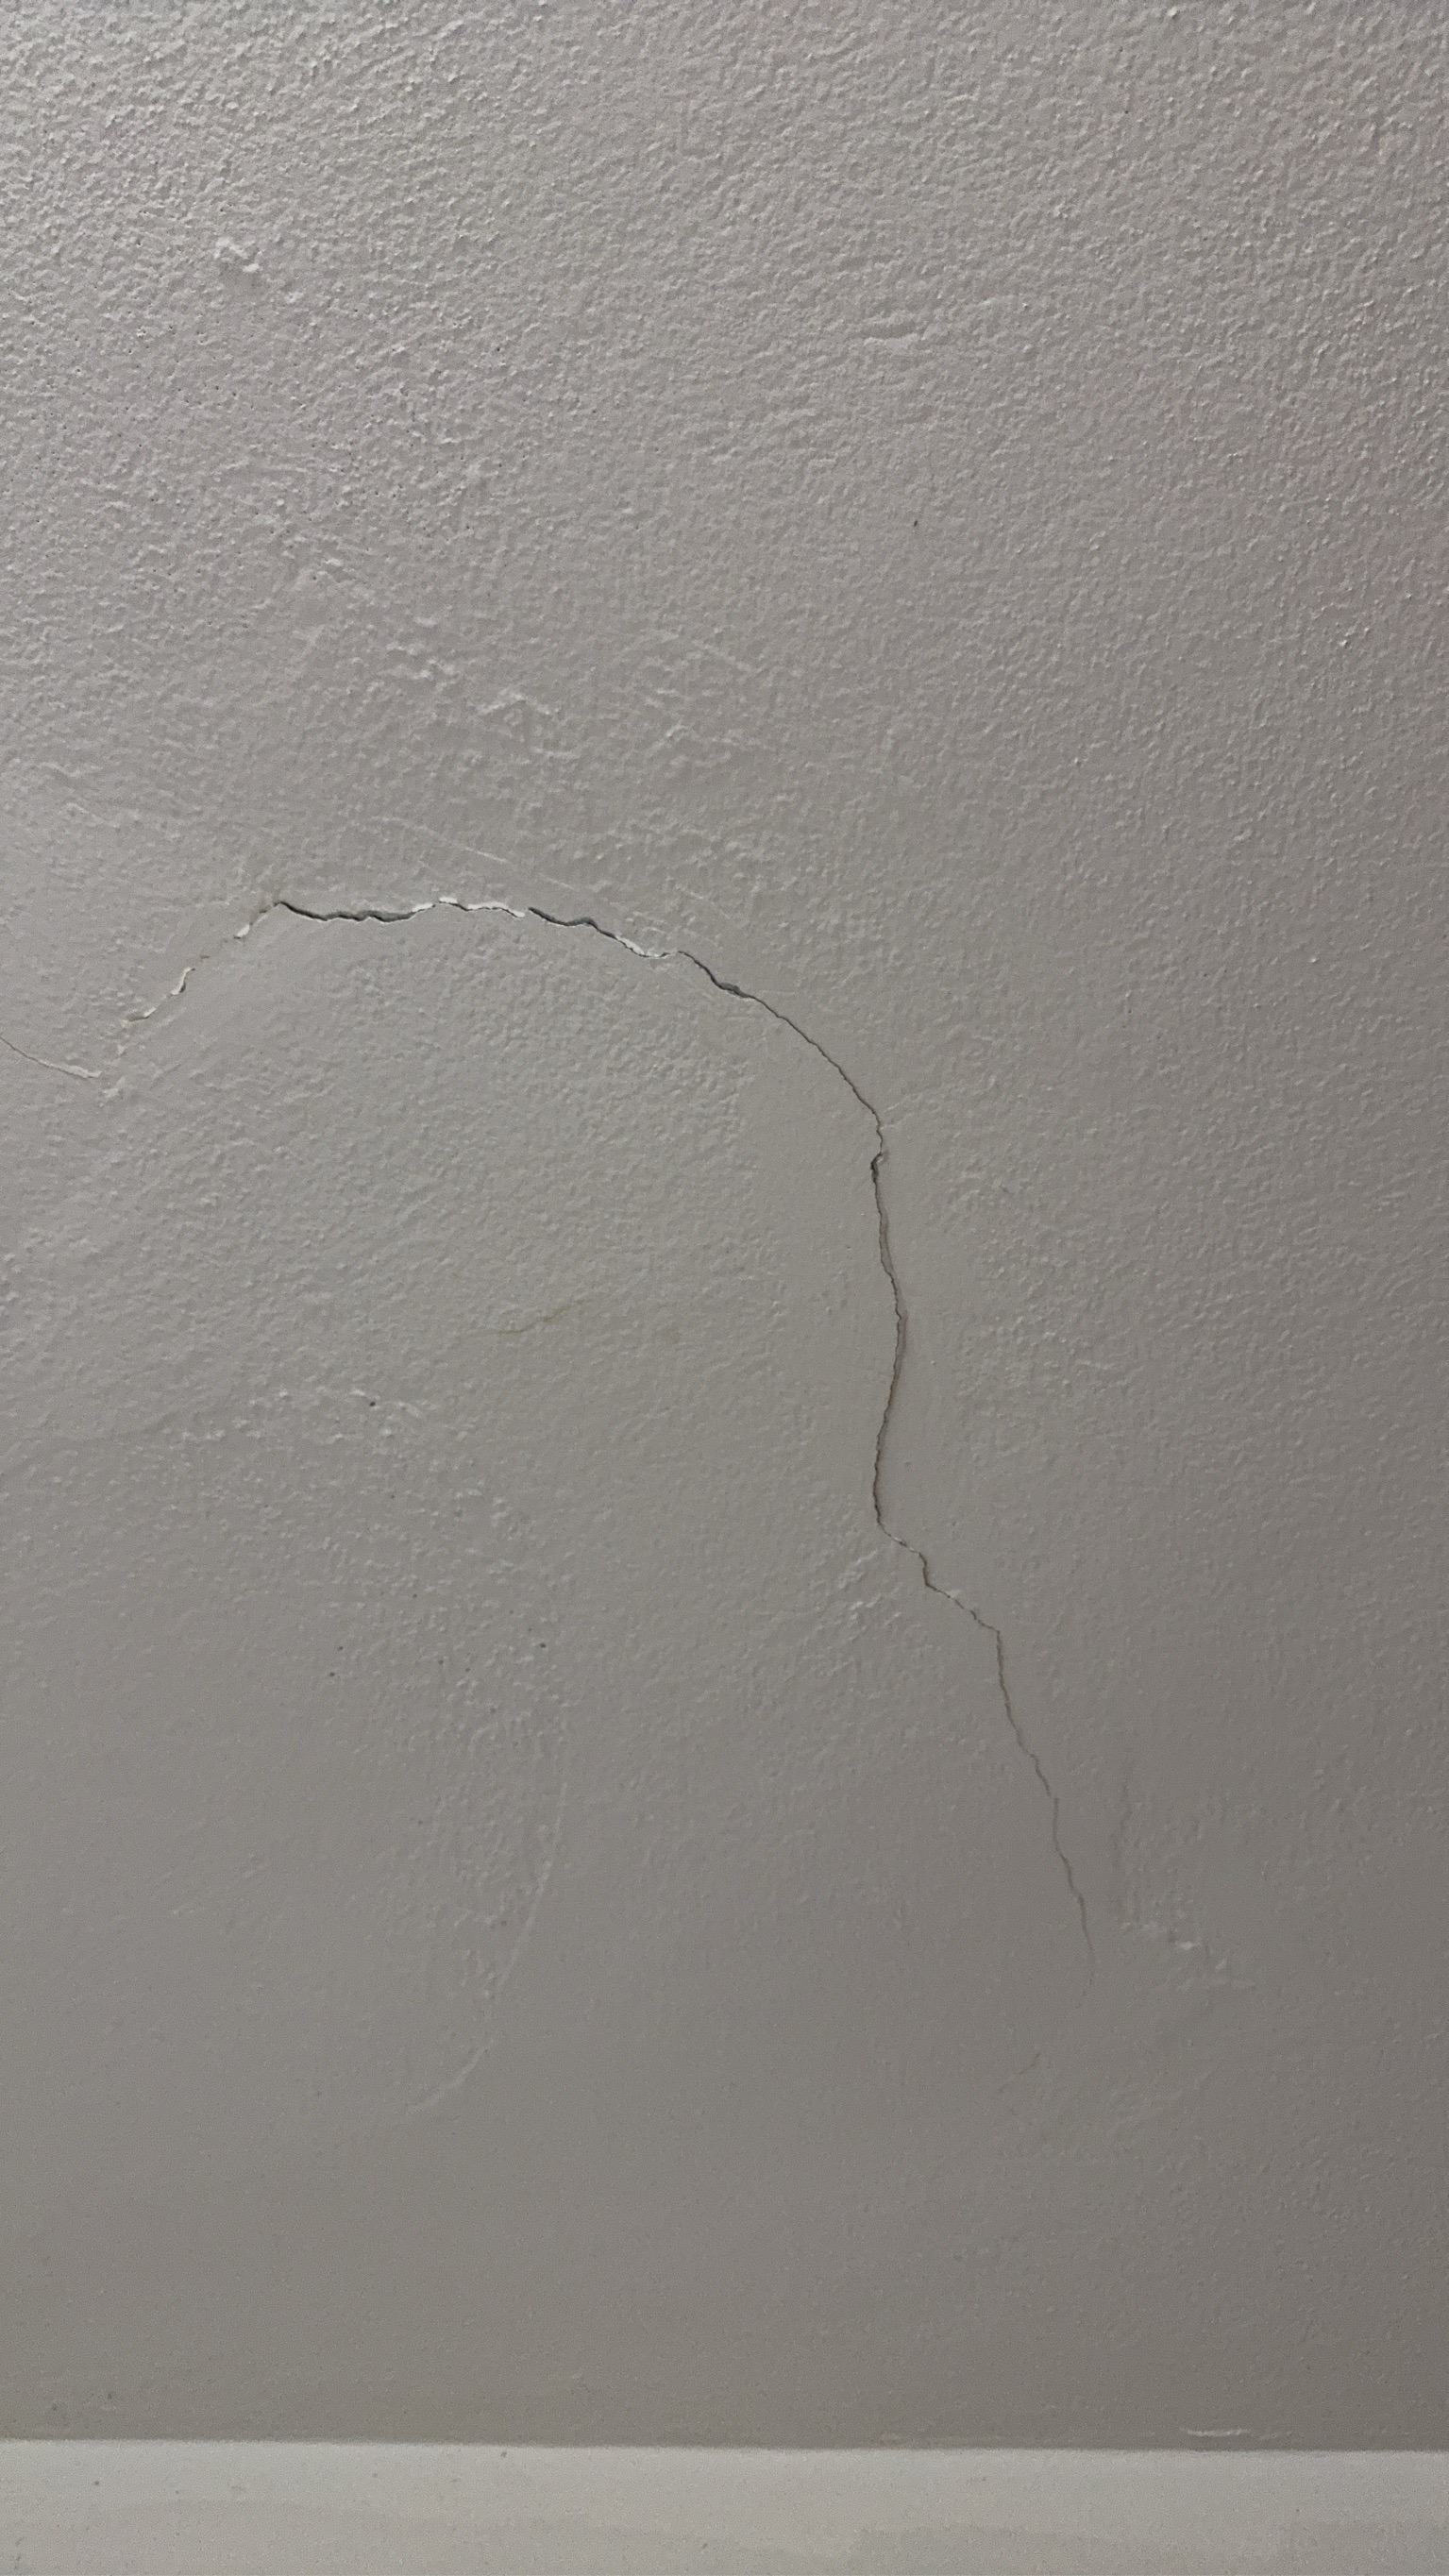Low: (90, 782, 1214, 2005)
